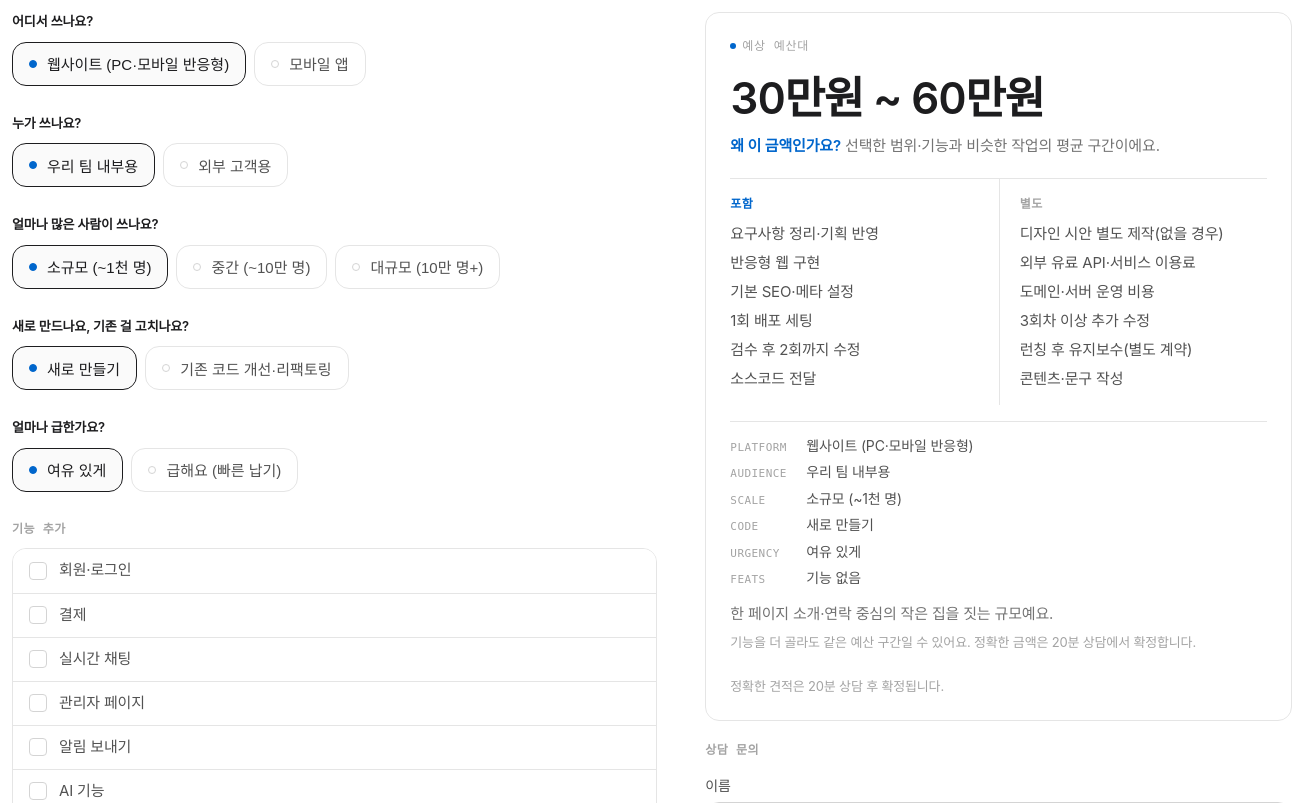
Test: Configurator › 초기 landing 예산대, 결제 추가 시 mvp로 실시간 변경
Expected: the text "30만원 ~ 60만원" is shown, [730, 71, 1044, 125]
Step 1. Click the checkbox labelled "결제" → (38, 615), box [13, 592, 656, 636]
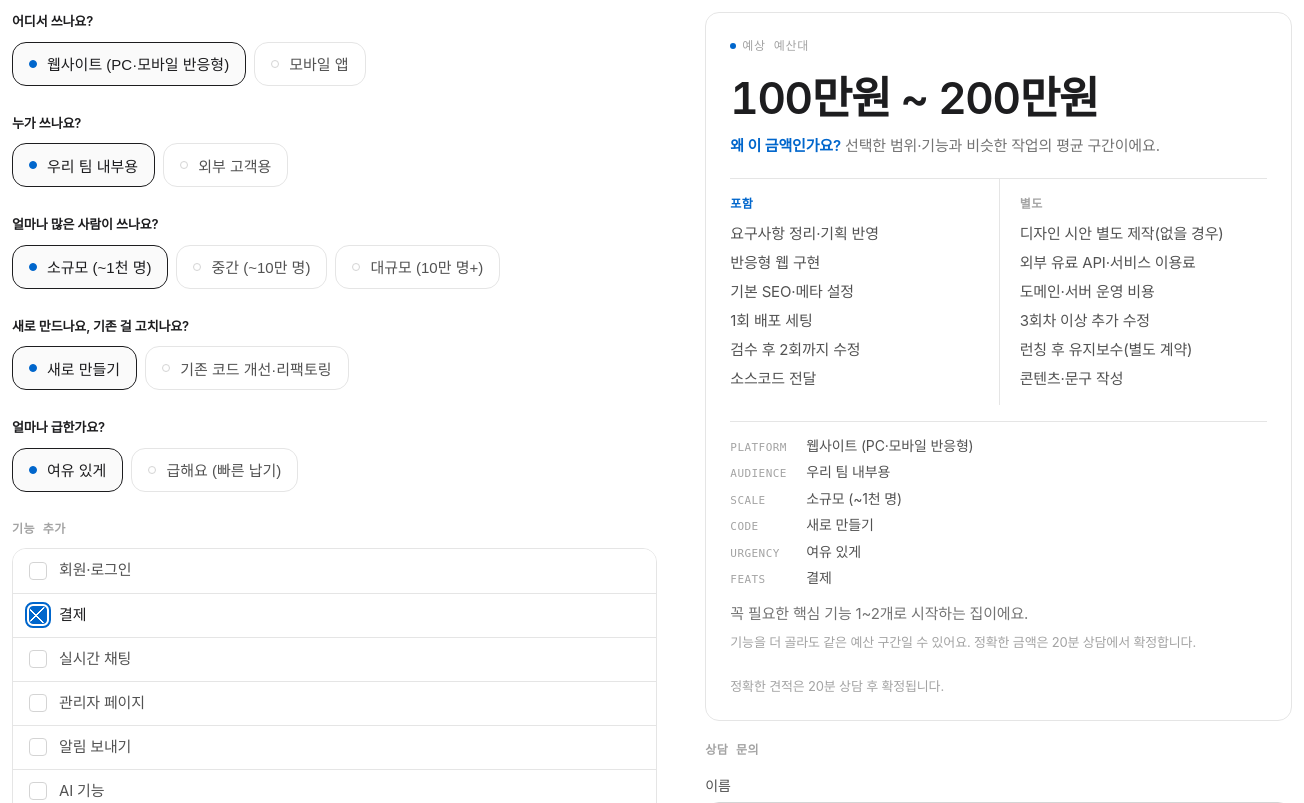
Result: the text "100만원 ~ 200만원" is shown at [730, 71, 1098, 125]
